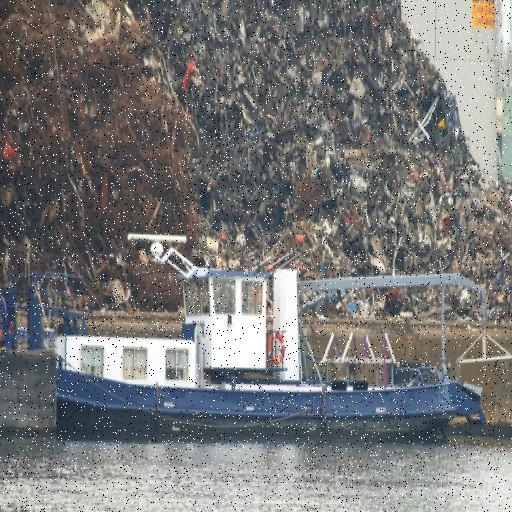tugboat: (1, 214, 491, 452)
